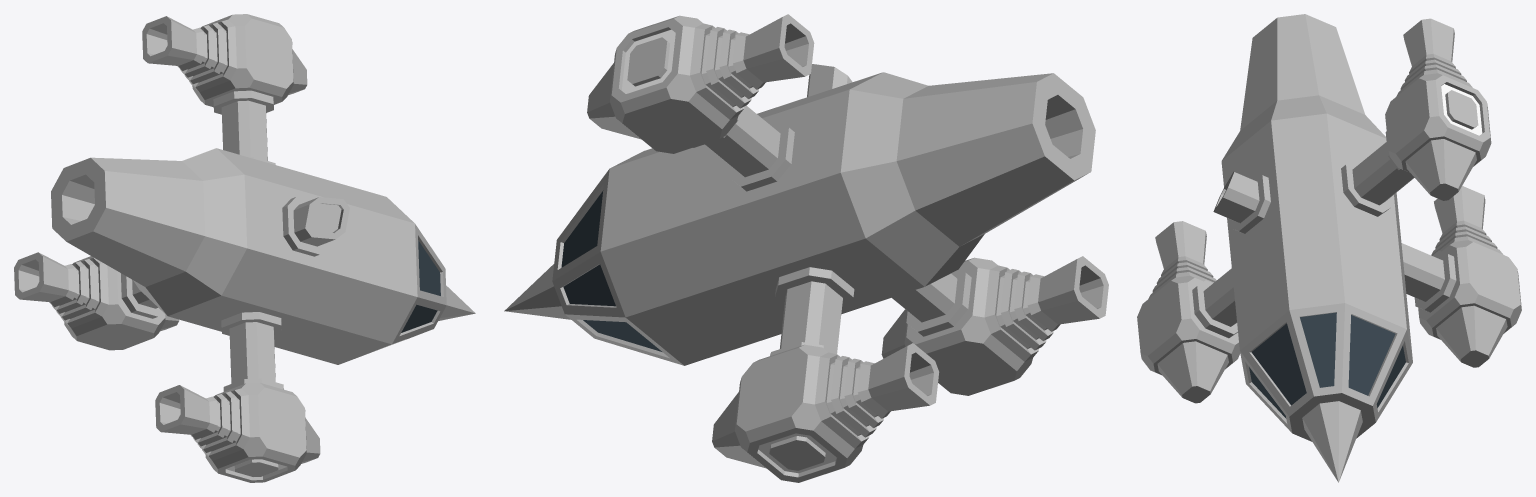
File: Gemi(kirik).fbx
3 renders of one model, left to right at view 1: azimuth 30°, elevation 25°; view 2: azimuth 150°, elevation 25°; view 3: azimuth 270°, elevation 25°, orthographic. The views are drawn at different scales.
Visible parts, largest first — view 1: GemiKırık; view 2: GemiKırık; view 3: GemiKırık.
Boxes of the visible parts, x1=… form: GemiKırık: x1=14, y1=14, x2=475, y2=482; GemiKırık: x1=504, y1=14, x2=1108, y2=482; GemiKırık: x1=1137, y1=14, x2=1521, y2=482.
Bounding box in the file's own units: 1285 × 1051 × 968.
